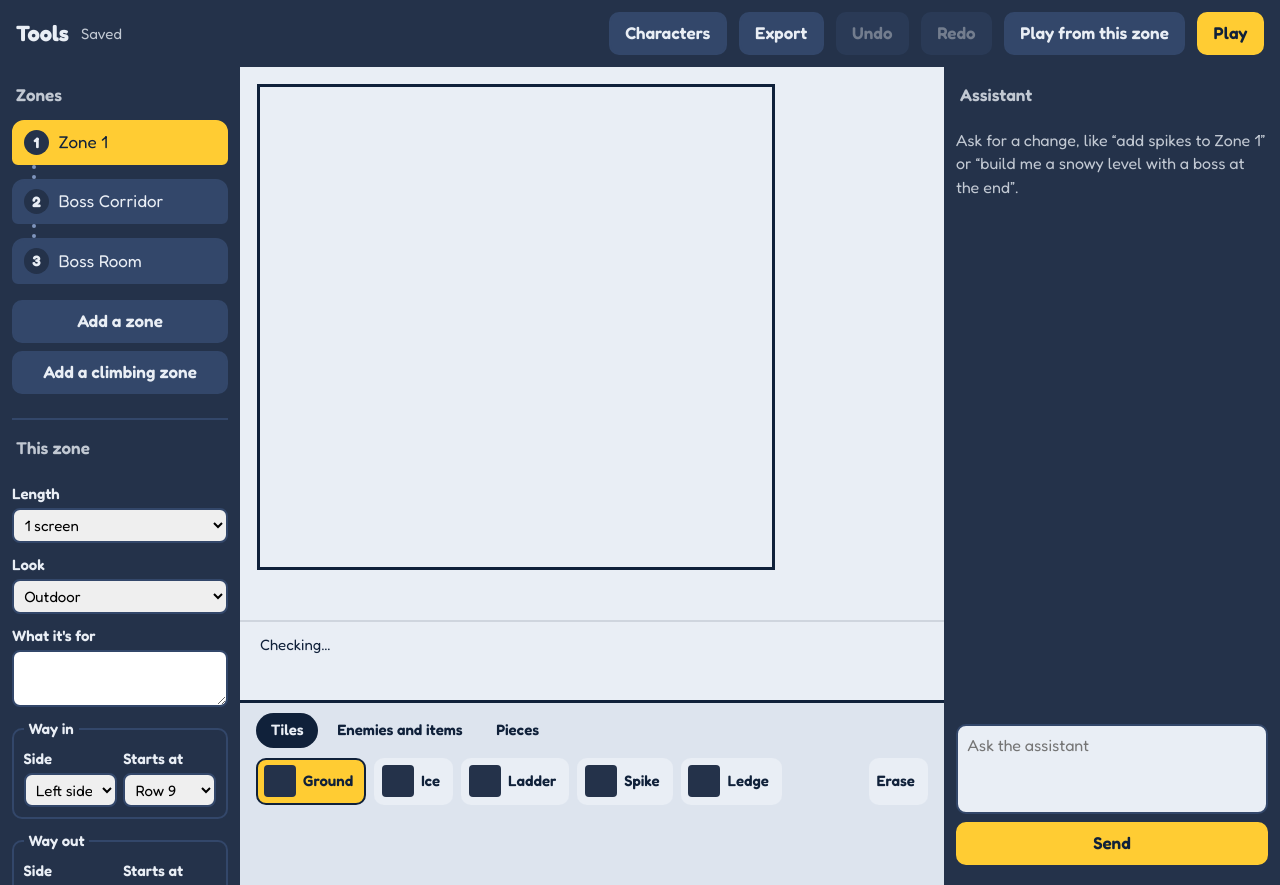
Scenario: building with tools › switches editing controls off while playing
Click the button "Add a zone". click: [120, 321]
box: [12,300,228,343]
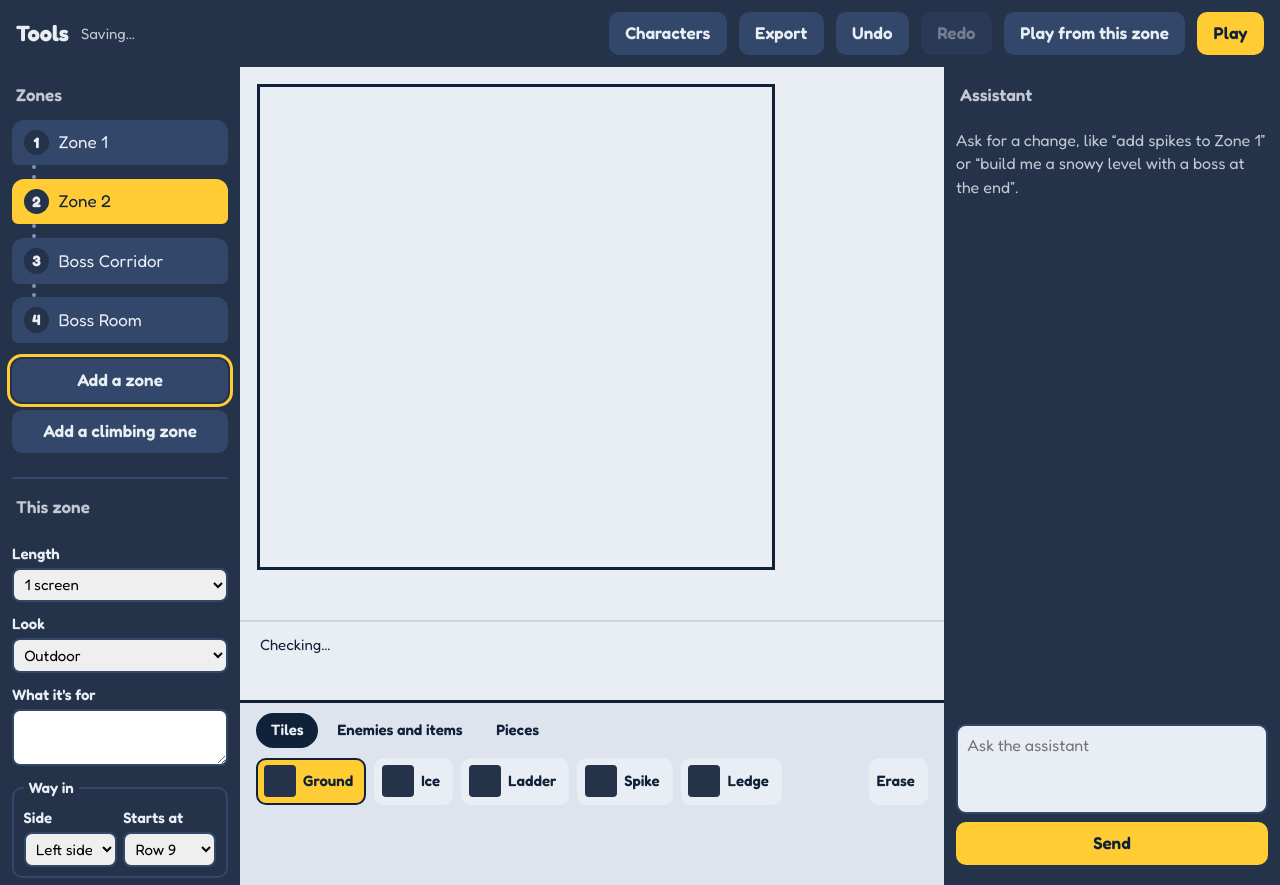
Click the button "Play". click: [1231, 34]
box: [1197,12,1264,55]
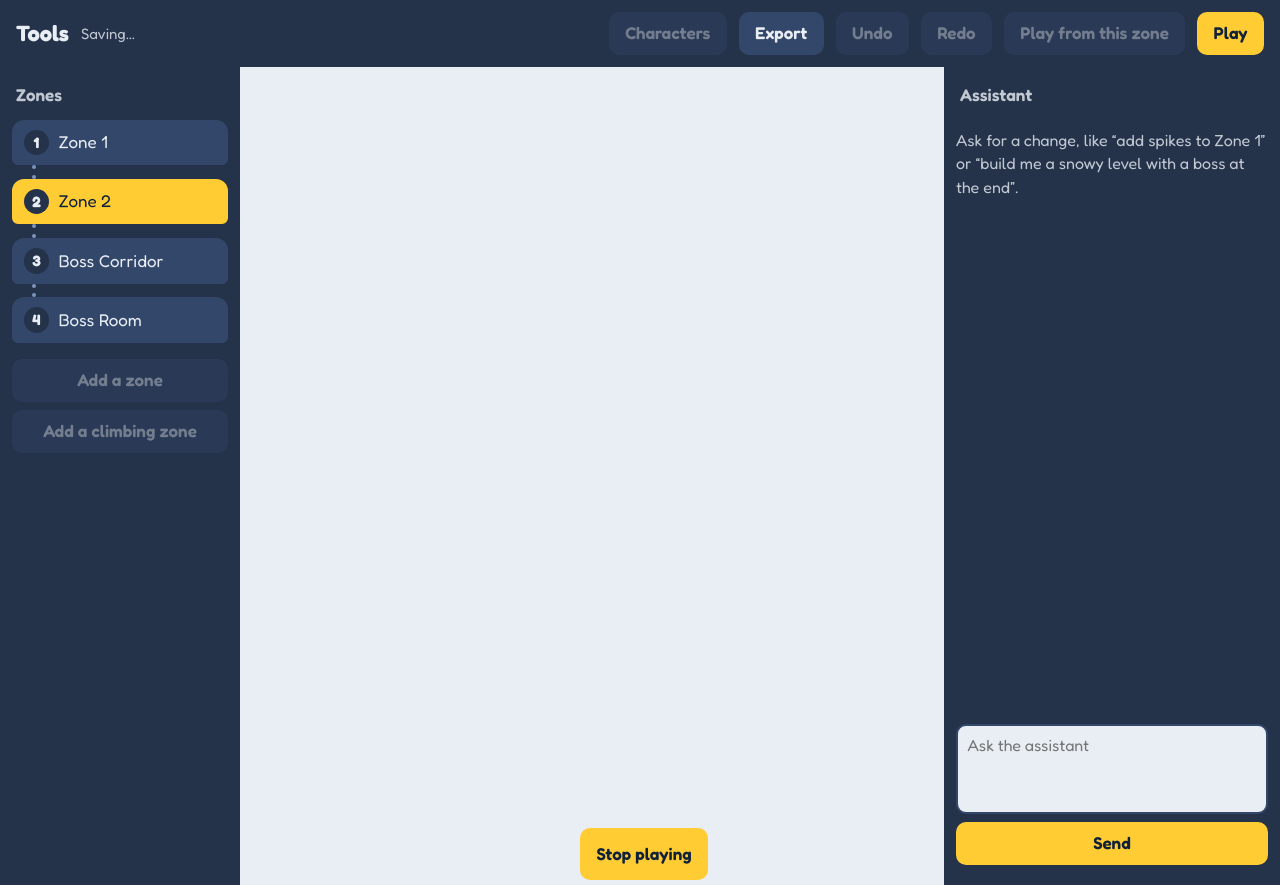
Result: the button "Undo" is disabled at [836,12,909,55]
Result: the button "Add a zone" is disabled at [12,359,228,402]
